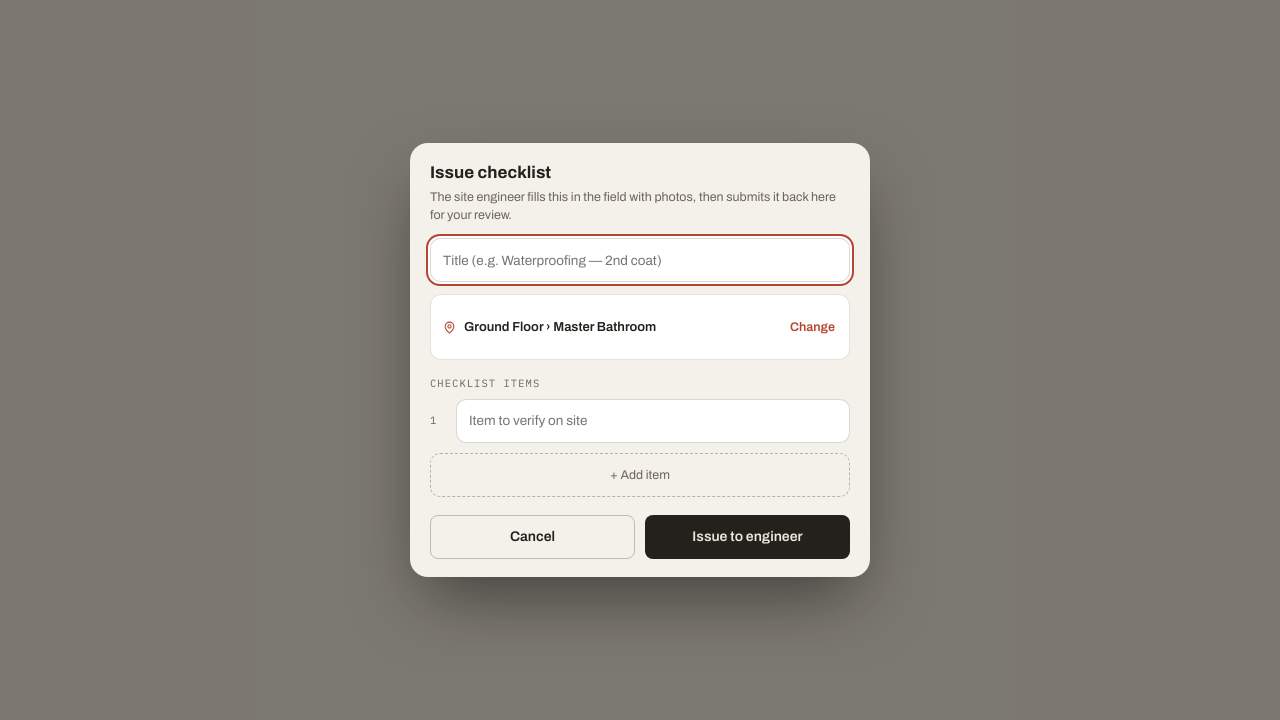
Test: an inherited place is stated, not re-asked › Change puts the picker back for a user who disagrees
Click the button with test id "chk-place-change" at (812, 327), box top-left (788, 305), bottom-right (837, 349)
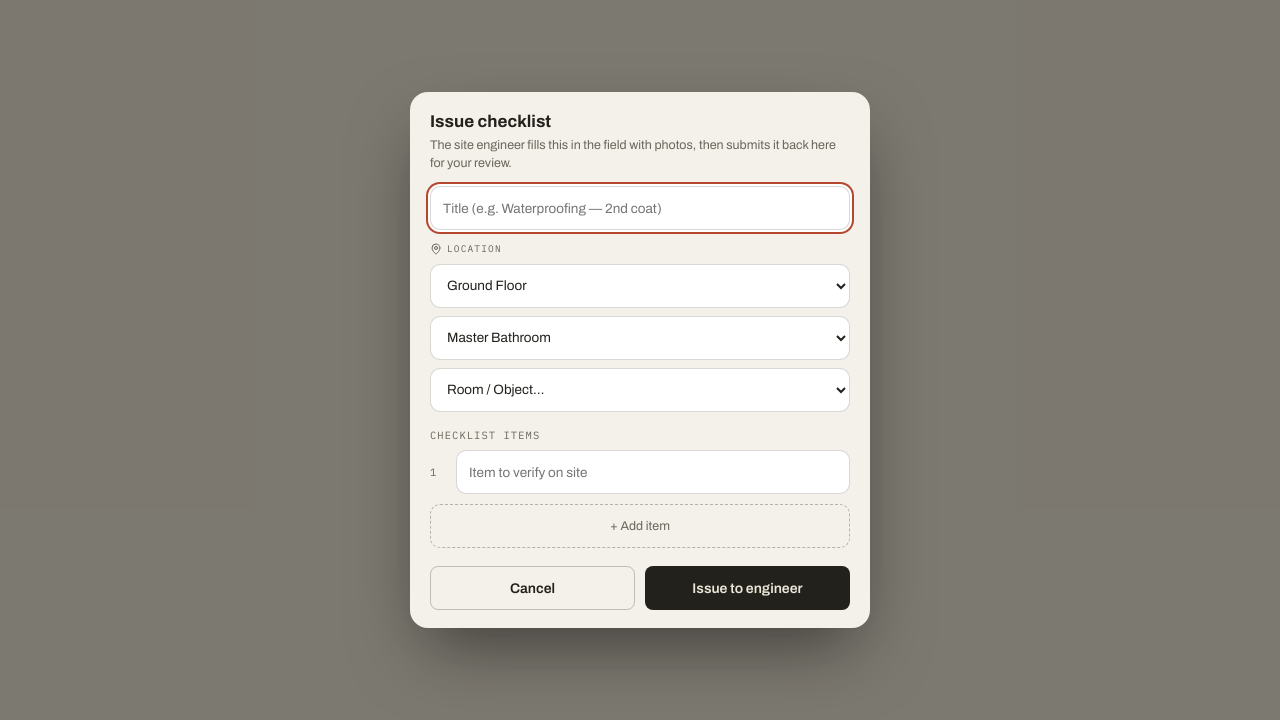
Expected: the text with test id "chk-place-trail" is gone
